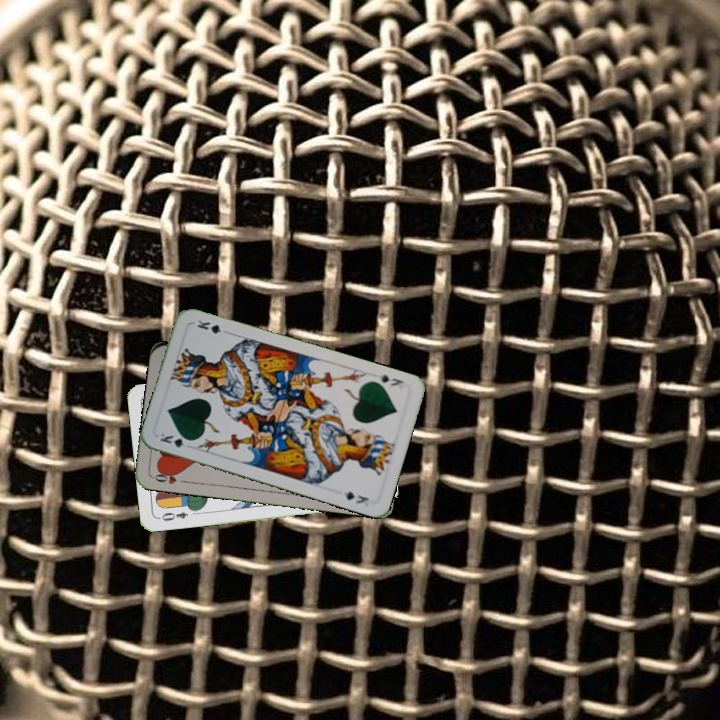EO: (154, 508, 190, 524)
GK: (156, 428, 196, 451), (373, 368, 406, 389)
HO: (149, 466, 190, 487)
